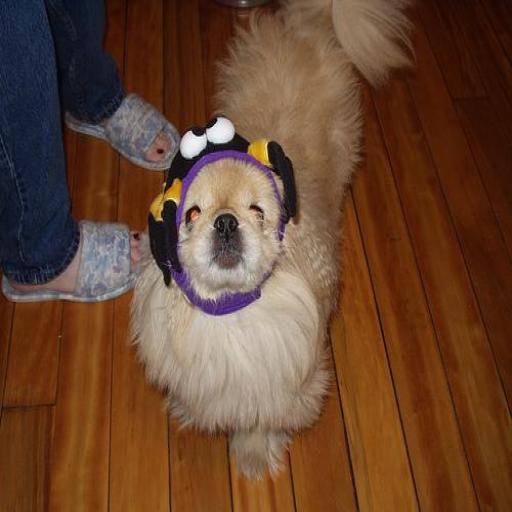dog_face: (162, 139, 282, 294)
